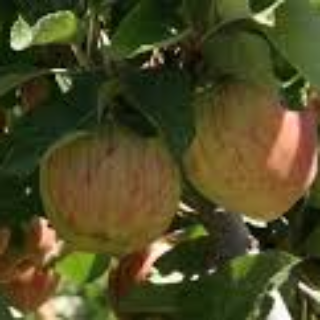tao: (38, 121, 181, 253)
